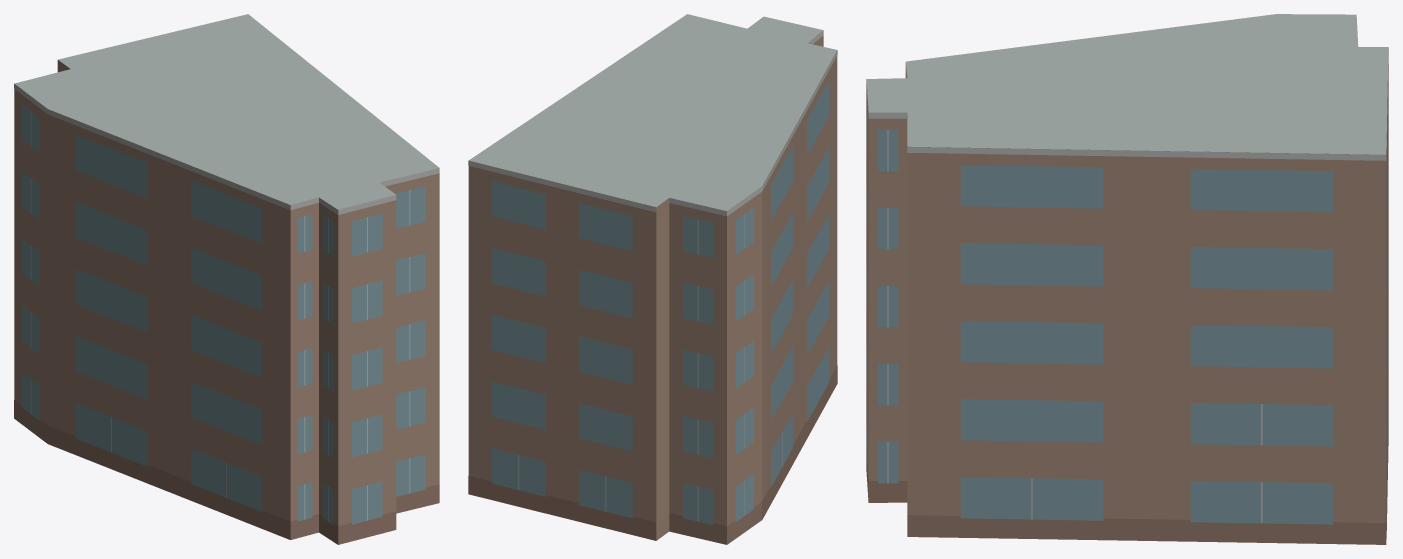
The model's file is survey-upis-32904311.glb.
3 renders of one model, left to right at view 1: azimuth 30°, elevation 25°; view 2: azimuth 150°, elevation 25°; view 3: azimuth 270°, elevation 25°, orthographic. The views are drawn at different scales.
Parts seen in each view (by area): view 1: survey-upis-32904311.tmp; view 2: survey-upis-32904311.tmp; view 3: survey-upis-32904311.tmp.
Boxes of the visible parts, x1=… form: survey-upis-32904311.tmp: x1=14, y1=14, x2=439, y2=544; survey-upis-32904311.tmp: x1=468, y1=14, x2=837, y2=544; survey-upis-32904311.tmp: x1=866, y1=14, x2=1388, y2=544.
Size of the model in its own units: 12.08 by 15.6 by 18.93.
